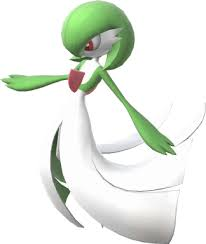gardevoir: (1, 1, 204, 244)
